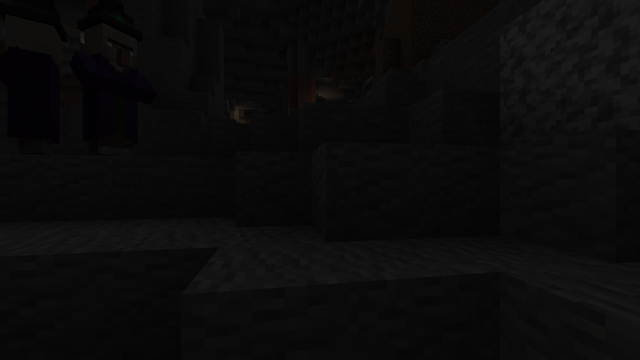sorcieres: (0, 8, 66, 155), (74, 15, 142, 156)
